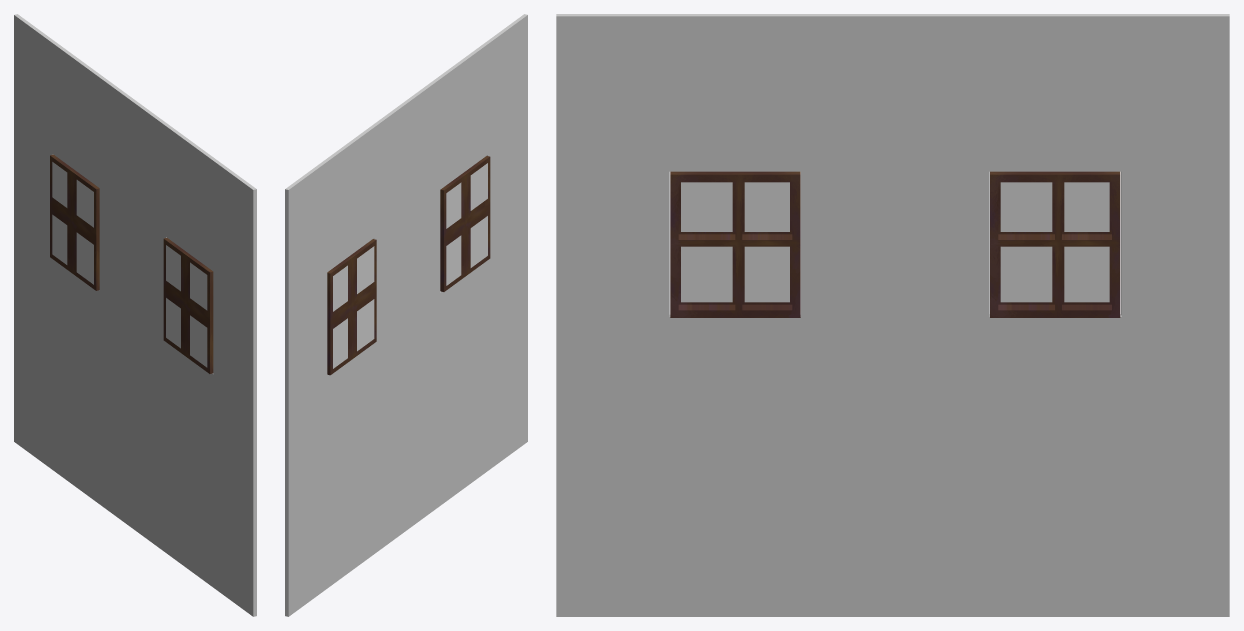
The model's file is wall and window-2.fbx.
The picture shows the model from 3 angles, left to right: view 1: azimuth 30°, elevation 25°; view 2: azimuth 150°, elevation 25°; view 3: azimuth 270°, elevation 25°; orthographic projection. The views are drawn at different scales.
Parts seen in each view (by area): view 1: Cube, jendela.001, jendela; view 2: Cube, jendela.001, jendela; view 3: Cube, jendela.001, jendela.
Part boxes in pixels (box(x1,y1,x2,y2)): Cube: box(14, 14, 256, 616); jendela.001: box(163, 238, 213, 373); jendela: box(50, 154, 99, 290); Cube: box(285, 14, 527, 616); jendela.001: box(440, 156, 490, 291); jendela: box(327, 239, 376, 375); Cube: box(556, 14, 1229, 616); jendela.001: box(670, 171, 800, 317); jendela: box(990, 171, 1120, 317).
Size of the model in its own units: 28.5 by 1295 by 1316.
Materials: 3 (1 with a texture image).
